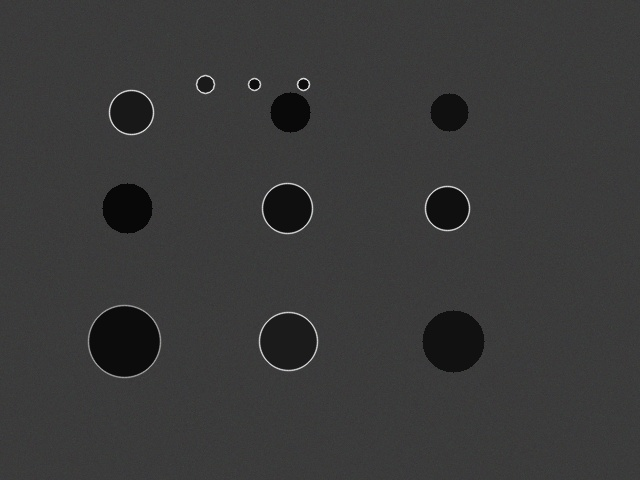hole: (88, 305, 160, 377), (422, 310, 484, 372), (259, 312, 317, 370), (102, 183, 152, 233), (262, 183, 312, 233), (109, 90, 153, 134), (425, 186, 469, 230), (270, 92, 310, 132), (430, 93, 468, 131), (196, 75, 214, 93), (248, 78, 260, 90), (297, 78, 309, 90)
